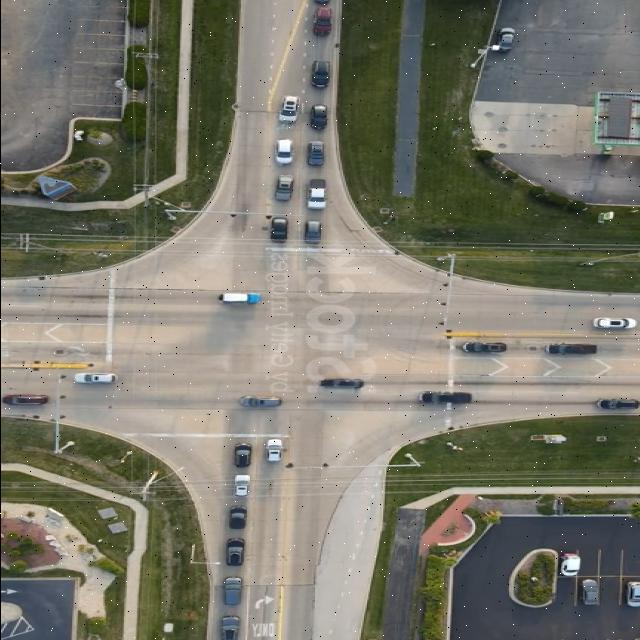car: (419, 391, 471, 404), (543, 344, 595, 356), (222, 578, 242, 606), (309, 61, 329, 88), (5, 390, 50, 402), (492, 28, 514, 52), (594, 398, 638, 410), (276, 96, 296, 122), (233, 392, 276, 404), (222, 540, 241, 566), (217, 616, 237, 640), (267, 218, 287, 242), (460, 343, 505, 353), (273, 139, 291, 163), (305, 140, 323, 164), (232, 444, 250, 468), (228, 507, 246, 531), (319, 379, 362, 389), (592, 318, 634, 328), (240, 396, 282, 406), (72, 374, 114, 384), (70, 370, 112, 380), (273, 176, 291, 199), (302, 220, 320, 243), (308, 105, 326, 128), (264, 440, 282, 462), (625, 581, 640, 606), (233, 476, 249, 496)
pickup-truck: (579, 576, 600, 604)
